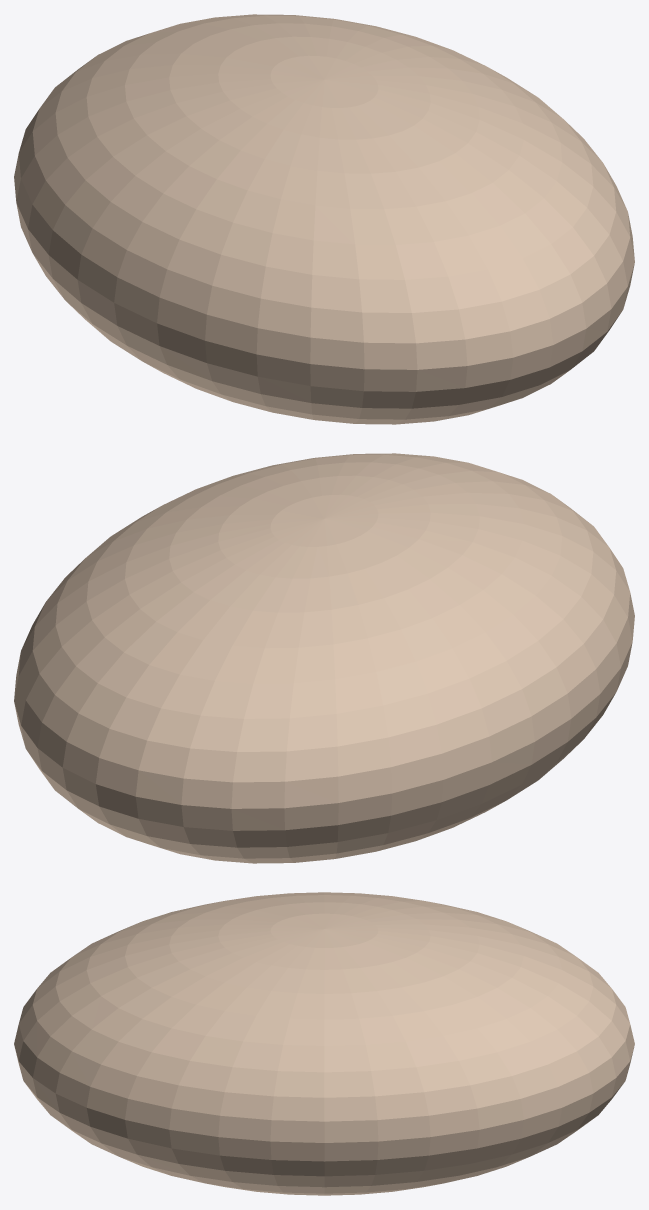
File: dough.glb
3 renders of one model, top to bottom at view 1: azimuth 30°, elevation 25°; view 2: azimuth 150°, elevation 25°; view 3: azimuth 270°, elevation 25°, orthographic. The views are drawn at different scales.
Parts seen in each view (by area): view 1: Mesh_Mesh_head_geo.001_lambert2SG.001; view 2: Mesh_Mesh_head_geo.001_lambert2SG.001; view 3: Mesh_Mesh_head_geo.001_lambert2SG.001.
Boxes of the visible parts, x1,y1,x2,y2 form: Mesh_Mesh_head_geo.001_lambert2SG.001: [14, 14, 634, 424]; Mesh_Mesh_head_geo.001_lambert2SG.001: [14, 453, 634, 863]; Mesh_Mesh_head_geo.001_lambert2SG.001: [14, 892, 634, 1195].
Size of the model in its own units: 37 by 20 by 49.
